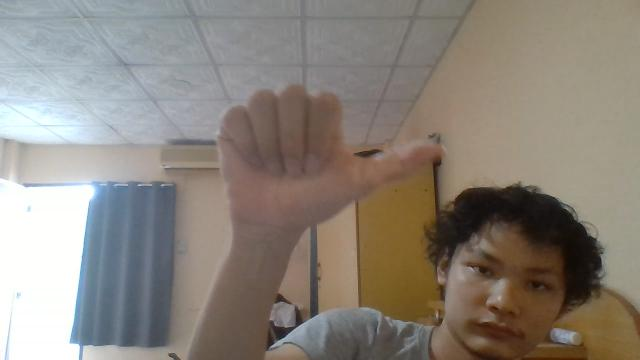left: (216, 84, 444, 232)
